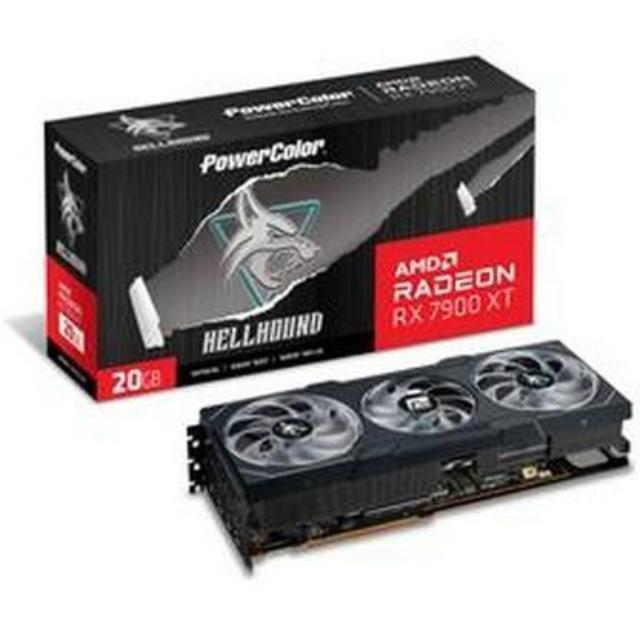GPU: (182, 338, 638, 568)
